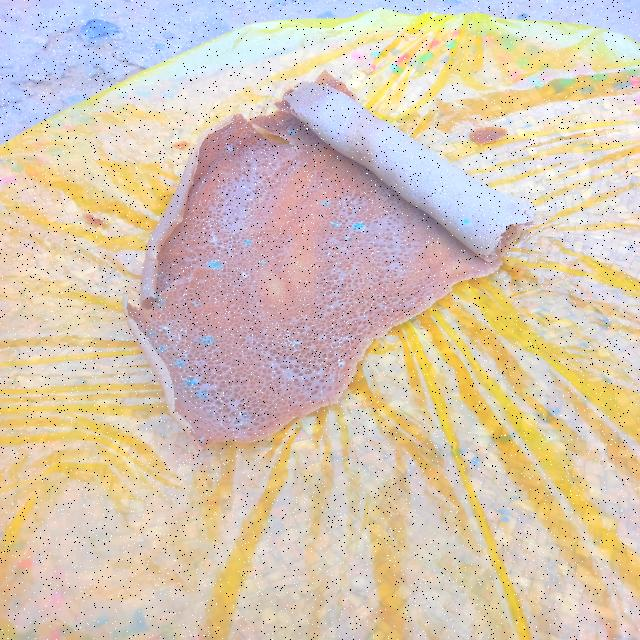injera_mold: (153, 322, 192, 360), (178, 372, 212, 402), (278, 331, 304, 351), (205, 230, 224, 249), (334, 334, 355, 349), (459, 214, 476, 230), (350, 220, 367, 236), (324, 218, 343, 232), (196, 334, 215, 348), (203, 258, 225, 270), (223, 141, 240, 155), (186, 297, 203, 311), (238, 407, 253, 422), (334, 357, 350, 370), (240, 270, 253, 286), (285, 126, 301, 138), (319, 198, 332, 208), (241, 239, 256, 247)
